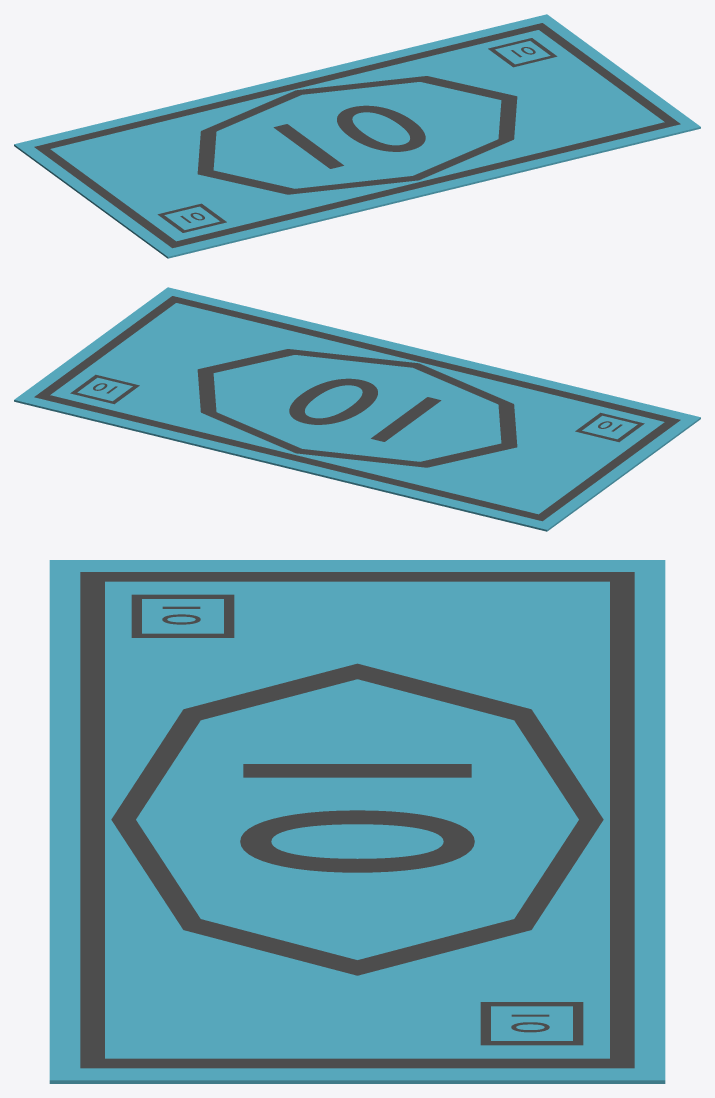
Rendered from 10 Dollar.fbx.
3 views of the same model, one above another, from view 1: azimuth 30°, elevation 25°; view 2: azimuth 150°, elevation 25°; view 3: azimuth 270°, elevation 25° (orthographic). The views are drawn at different scales.
Parts seen in each view (by area): view 1: 10 Dollar; view 2: 10 Dollar; view 3: 10 Dollar.
Boxes of the visible parts, bbox=[...] form: 10 Dollar: bbox=[14, 14, 700, 258]; 10 Dollar: bbox=[14, 287, 700, 531]; 10 Dollar: bbox=[49, 560, 665, 1083].
Size of the model in its own units: 120 by 60 by 0.7921.
